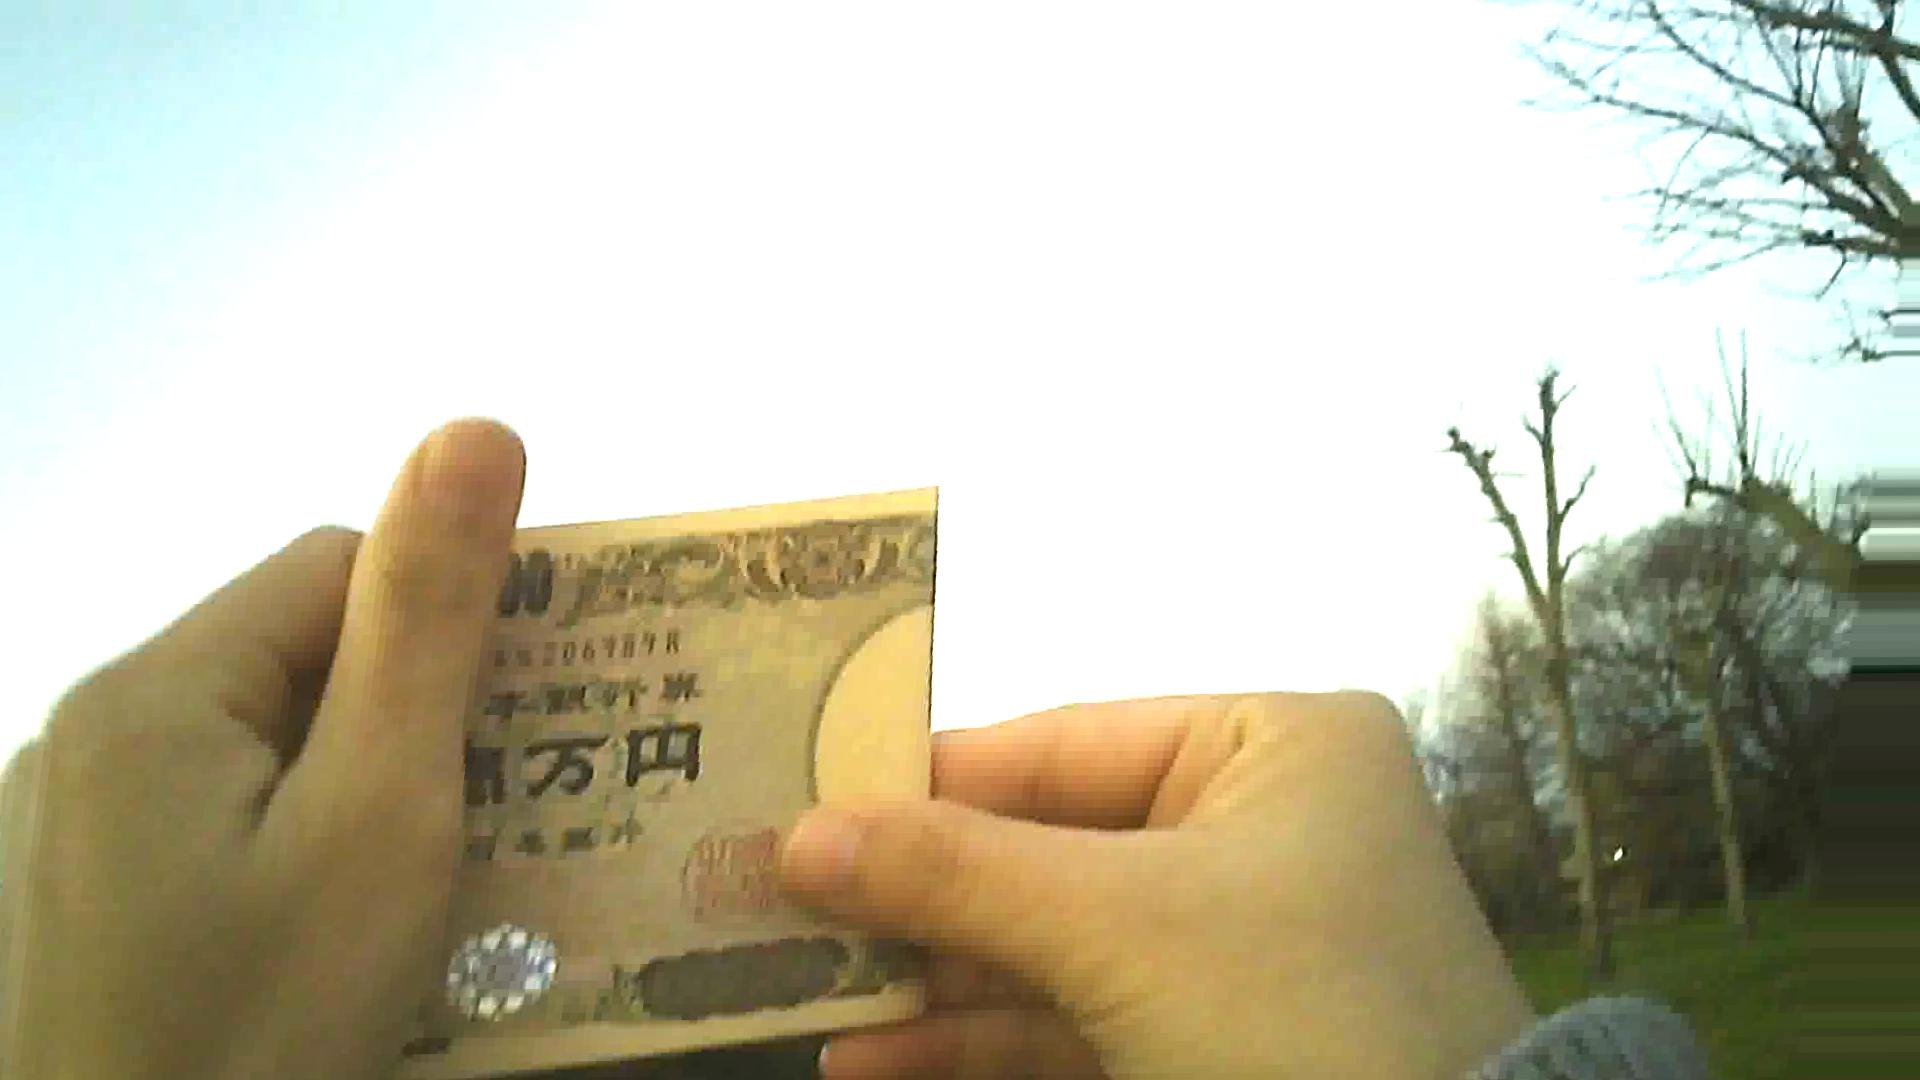10,000 Yen: (360, 451, 988, 1079)
